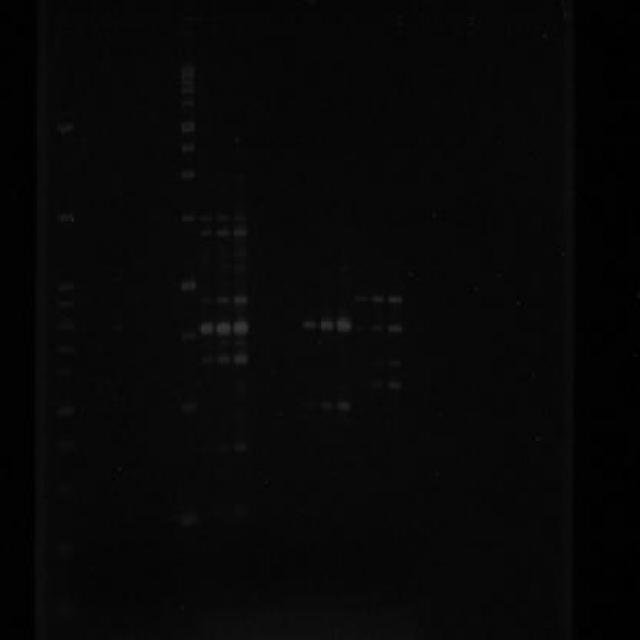B: (336, 314, 352, 336), (318, 315, 336, 334), (232, 320, 250, 337), (300, 317, 318, 332), (216, 322, 232, 338), (214, 294, 232, 308), (386, 378, 404, 392), (300, 399, 318, 413), (230, 225, 248, 238), (232, 294, 248, 308), (232, 352, 248, 366), (232, 440, 248, 454), (318, 399, 333, 413), (232, 336, 248, 349), (336, 401, 352, 414), (200, 294, 214, 308), (200, 322, 214, 336), (200, 352, 214, 366), (387, 356, 402, 369), (216, 227, 230, 240), (217, 352, 231, 365), (370, 379, 384, 392), (388, 294, 403, 306), (352, 293, 368, 304), (386, 324, 403, 334), (214, 213, 231, 222), (370, 323, 386, 332), (232, 212, 246, 222), (371, 294, 386, 303), (200, 214, 212, 223), (200, 229, 213, 237)
M: (178, 58, 200, 534)
P: (178, 508, 199, 528), (178, 400, 198, 416), (181, 278, 196, 292), (180, 119, 194, 133), (182, 329, 196, 342), (180, 168, 194, 180), (180, 142, 194, 153), (180, 62, 194, 73), (182, 212, 196, 223), (180, 78, 196, 86), (182, 99, 196, 108), (180, 87, 194, 95), (180, 72, 194, 78)
